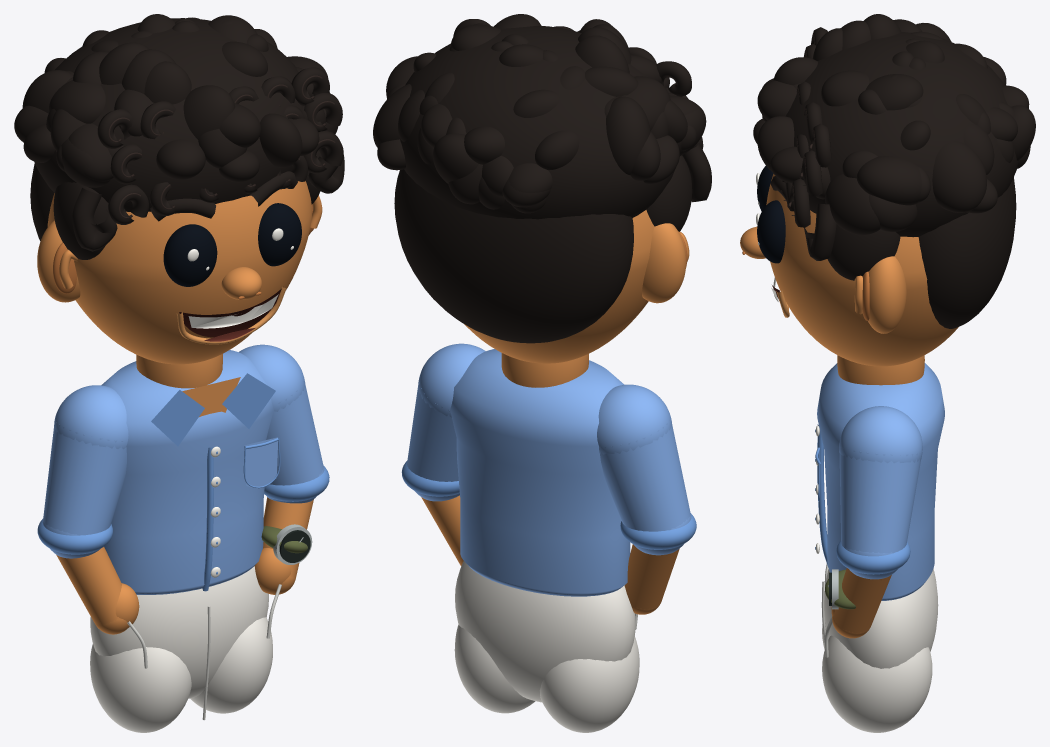
Rendered from sekhar-avatar.glb.
3 views of the same model, side by side, from view 1: azimuth 30°, elevation 25°; view 2: azimuth 150°, elevation 25°; view 3: azimuth 270°, elevation 25° (orthographic). The views are drawn at different scales.
Parts seen in each view (by area): view 1: Shirt, HairCurl (×22), Face, HairMass, UpperThigh (×2), Sleeve (×2), Trousers, SculptedCurl (×9), SleeveEnd (×2), Eye (×2), Forearm (×2), Collar (×2) (+18 smaller); view 2: Shirt, BackHair, HairCurl (×22), HairMass, Trousers, Sleeve (×2), UpperThigh (×2), SleeveEnd (×2), Face, Forearm (×2), Ear, SleeveFold (×2) (+4 smaller); view 3: HairCurl (×21), HairMass, Face, Shirt, BackHair, UpperThigh, Sleeve, Trousers, SleeveEnd, TempleHair, Ear, SculptedCurl (×3) (+7 smaller).
Part boxes in pixels (box(x1,y1,x2,y2)): Shirt: box(101, 350, 273, 594); HairCurl (×22): box(14, 14, 319, 187); Face: box(47, 181, 311, 364); HairMass: box(34, 18, 309, 211); UpperThigh (×2): box(90, 617, 272, 732); Sleeve (×2): box(43, 377, 323, 535); Trousers: box(90, 566, 268, 698); SculptedCurl (×9): box(97, 67, 343, 224); SleeveEnd (×2): box(54, 344, 305, 449); Eye (×2): box(163, 203, 301, 286); Forearm (×2): box(56, 497, 313, 625); Collar (×2): box(151, 373, 275, 446); Shirt: box(450, 349, 630, 596); BackHair: box(394, 169, 633, 343); HairCurl (×22): box(373, 24, 687, 207); HairMass: box(400, 26, 679, 219); Trousers: box(455, 561, 635, 702); Sleeve (×2): box(407, 383, 690, 531); UpperThigh (×2): box(454, 624, 639, 732); SleeveEnd (×2): box(418, 343, 671, 454); Face: box(464, 210, 654, 363); Forearm (×2): box(421, 495, 679, 609); Ear: box(642, 223, 686, 303); SleeveFold (×2): box(401, 461, 696, 549); HairCurl (×21): box(757, 14, 1035, 234); HairMass: box(785, 32, 1018, 237); Face: box(766, 174, 958, 366); Shirt: box(817, 363, 944, 600); BackHair: box(918, 177, 1016, 328); UpperThigh: box(822, 635, 932, 732); Sleeve: box(839, 445, 921, 553); Trousers: box(824, 569, 938, 668); SleeveEnd: box(839, 406, 922, 463); TempleHair: box(827, 224, 900, 280); Ear: box(868, 256, 906, 333); SculptedCurl (×3): box(789, 123, 831, 227).
Size of the model in its own units: 1.72 by 3.88 by 1.55.
